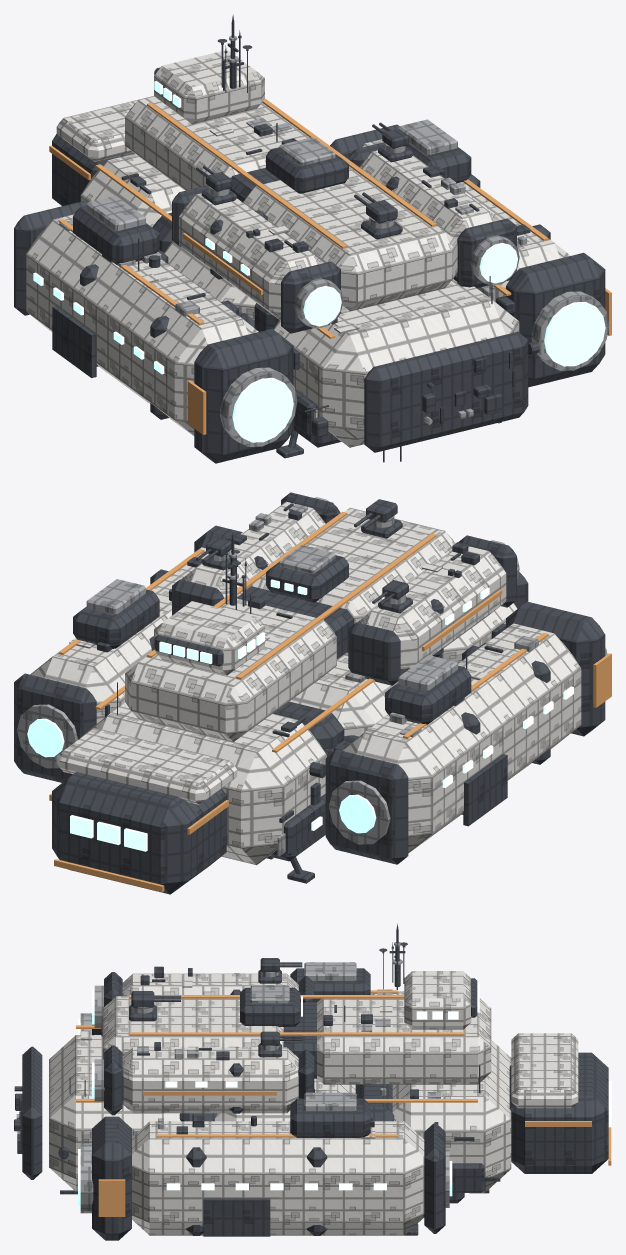
The model's file is aur-bastion-corvette.fbx.
3 renders of one model, top to bottom at view 1: azimuth 30°, elevation 25°; view 2: azimuth 150°, elevation 25°; view 3: azimuth 270°, elevation 25°, orthographic. The views are drawn at different scales.
Parts seen in each view (by area): view 1: Hull_White, Hull_Dark, Hull_Grey, Glow, Livery, Windows; view 2: Hull_White, Hull_Dark, Hull_Grey, Livery, Windows, Glow; view 3: Hull_White, Hull_Dark, Hull_Grey, Livery, Windows, Glow.
Boxes of the visible parts, x1=… form: Hull_White: x1=26, y1=50, x2=570, y2=447; Hull_Dark: x1=14, y1=14, x2=605, y2=463; Hull_Grey: x1=59, y1=35, x2=609, y2=446; Glow: x1=232, y1=243, x2=605, y2=442; Livery: x1=49, y1=98, x2=611, y2=434; Windows: x1=33, y1=81, x2=489, y2=374; Hull_White: x1=30, y1=501, x2=581, y2=865; Hull_Dark: x1=14, y1=492, x2=605, y2=894; Hull_Grey: x1=17, y1=497, x2=607, y2=856; Livery: x1=49, y1=511, x2=611, y2=892; Windows: x1=70, y1=529, x2=573, y2=851; Glow: x1=27, y1=718, x2=376, y2=833; Hull_White: x1=49, y1=971, x2=578, y2=1235; Hull_Dark: x1=14, y1=923, x2=608, y2=1240; Hull_Grey: x1=16, y1=942, x2=449, y2=1213; Livery: x1=76, y1=990, x2=611, y2=1216; Windows: x1=165, y1=983, x2=611, y2=1190; Glow: x1=78, y1=989, x2=452, y2=1207.
Bounding box in the file's own units: 61.4 × 45.58 × 89.23.
Materials: 6 (3 with a texture image).
